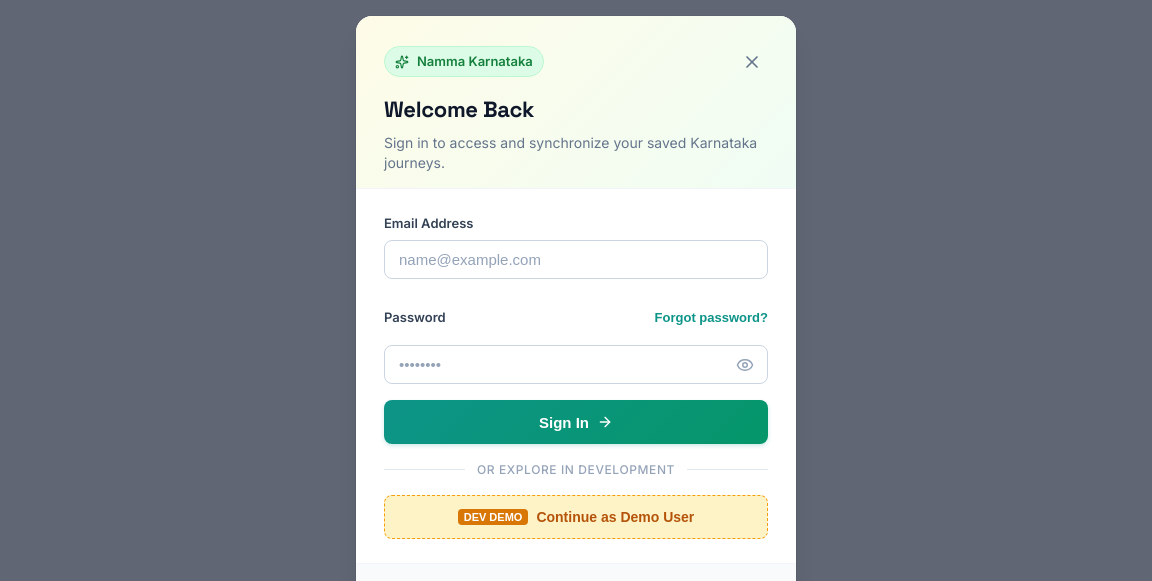
AuthModal Component › State A: Supabase Configured › handles unconfirmed email during sign in with helpful guidance
The image size is (1152, 581).
In the field labelled "Email Address": coordinates (576, 260) [384,240,768,279], type "unconfirmed@example.com"
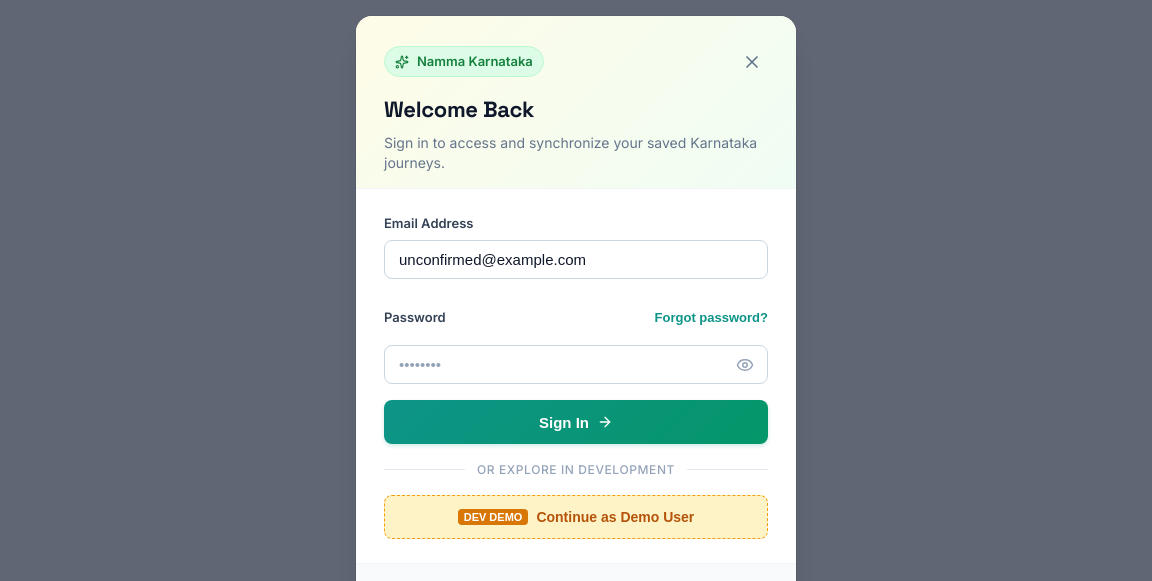
In the password field labelled "Password": coordinates (576, 364) [384,345,768,384], type "MySecretPass123!"
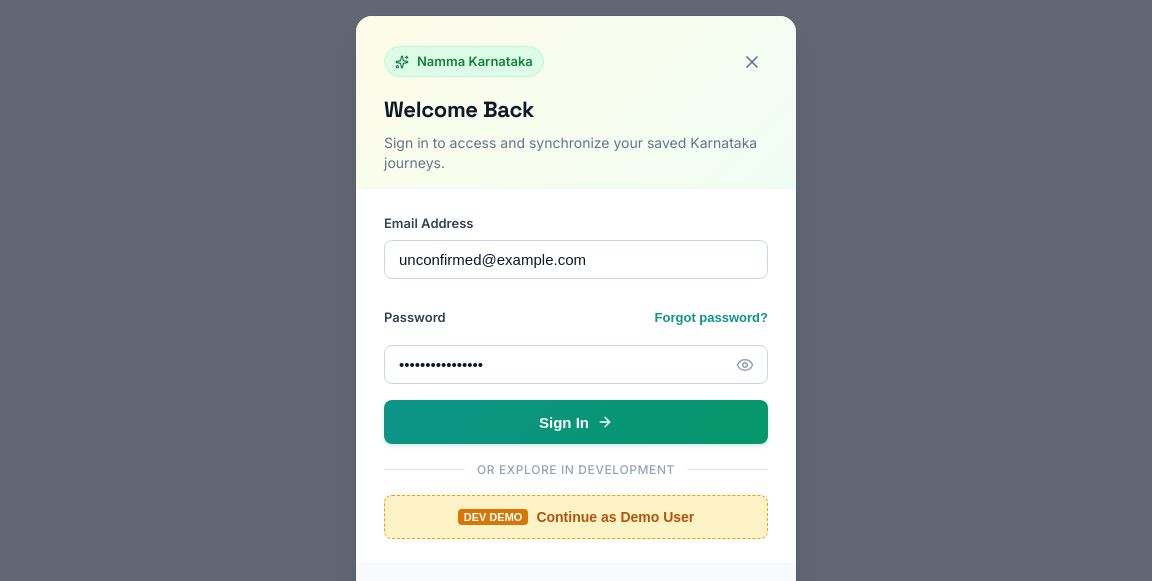
Click the button with test id "signin-submit-btn": coordinates (576, 422) [384,400,768,444]
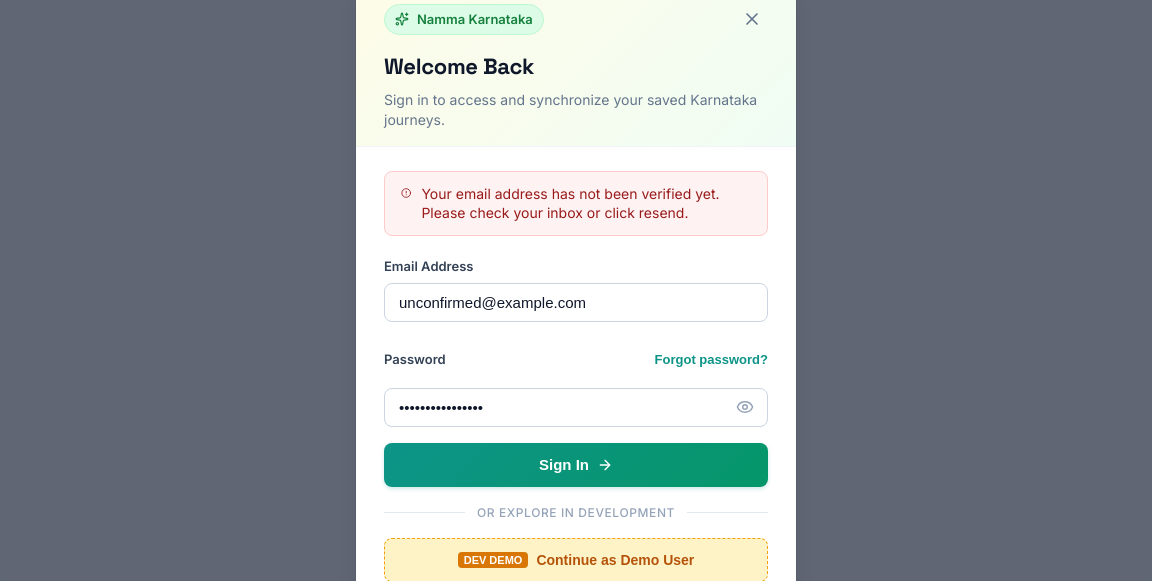
Now the text "Your email address has not been verified yet" is shown, box [421,185,720,221]
